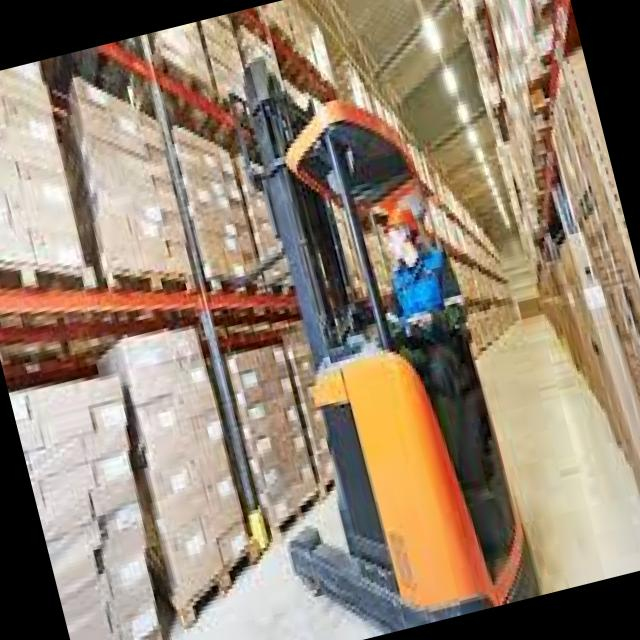Wooden-Pallets: (171, 530, 264, 634), (0, 254, 105, 316), (106, 257, 198, 304)
